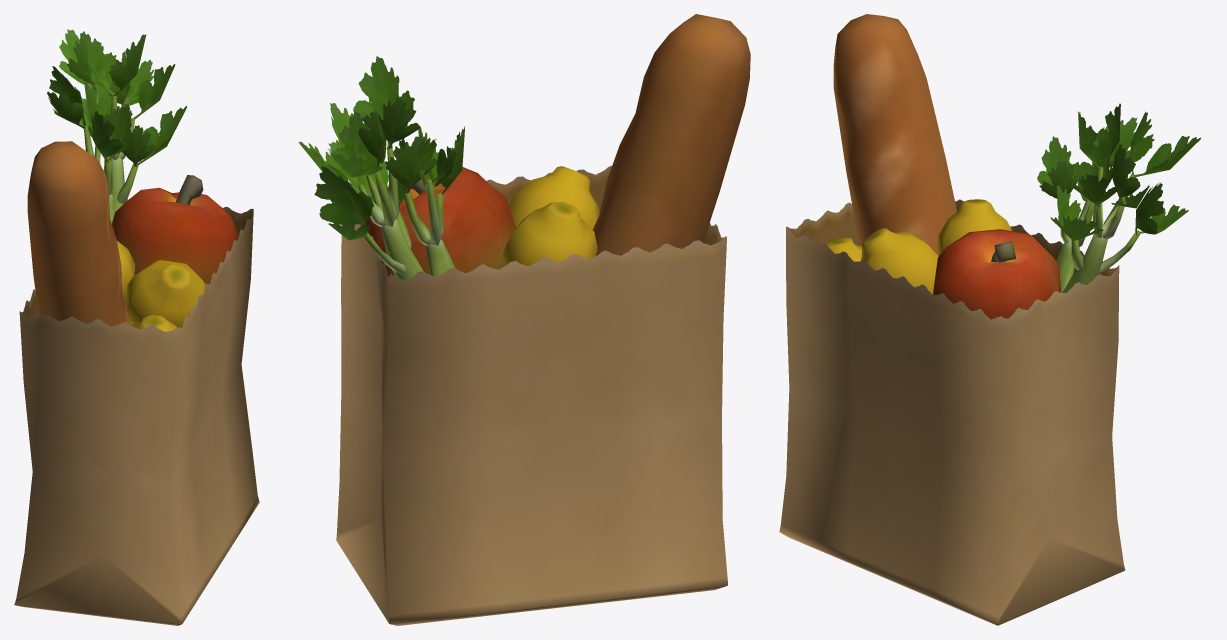
The picture shows the model from 3 angles, left to right: view 1: azimuth 30°, elevation 25°; view 2: azimuth 150°, elevation 25°; view 3: azimuth 270°, elevation 25°; orthographic projection. The views are drawn at different scales.
Size of the model in its own units: 5.77 by 9.11 by 7.23.
Materials: 1 (1 with a texture image).
